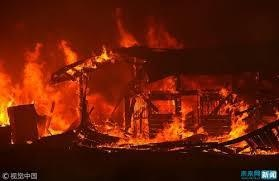fire: (4, 15, 210, 151)
